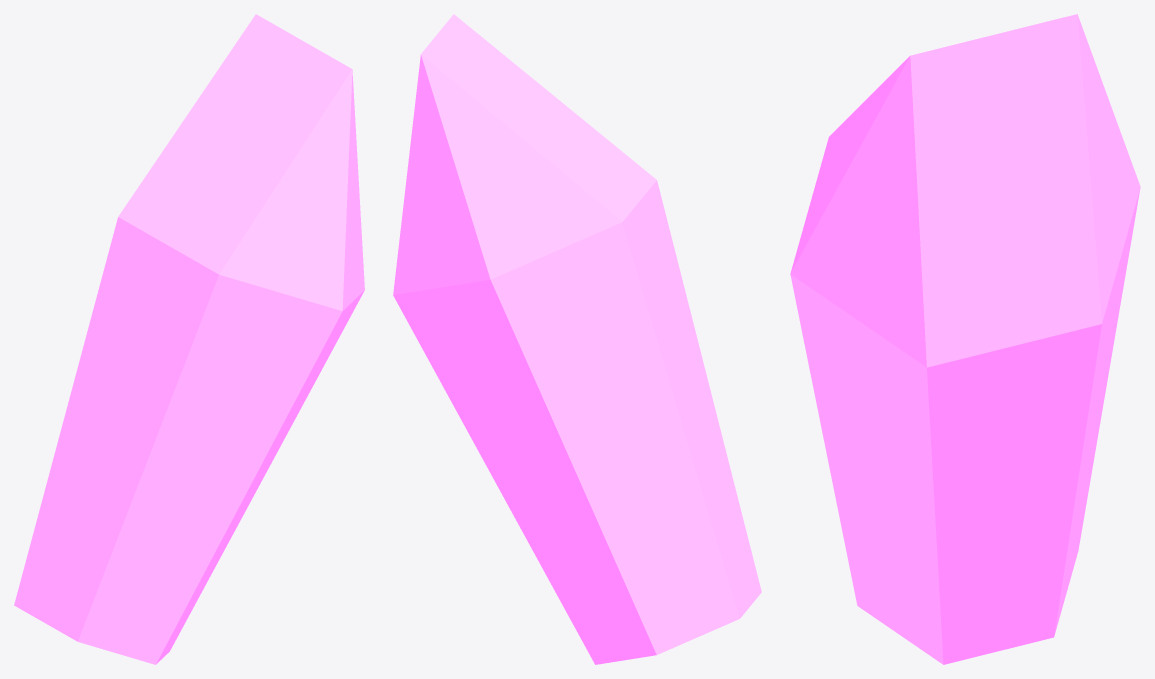
File: Amatista_Cueva.fbx
The picture shows the model from 3 angles, left to right: view 1: azimuth 30°, elevation 25°; view 2: azimuth 150°, elevation 25°; view 3: azimuth 270°, elevation 25°; orthographic projection. The views are drawn at different scales.
Visible parts, largest first — view 1: Cilindro.001; view 2: Cilindro.001; view 3: Cilindro.001.
Boxes of the visible parts, x1,y1,x2,y2 form: Cilindro.001: (14,14,364,664); Cilindro.001: (393,14,761,664); Cilindro.001: (790,14,1140,664).
Size of the model in its own units: 267 by 443 by 190.
